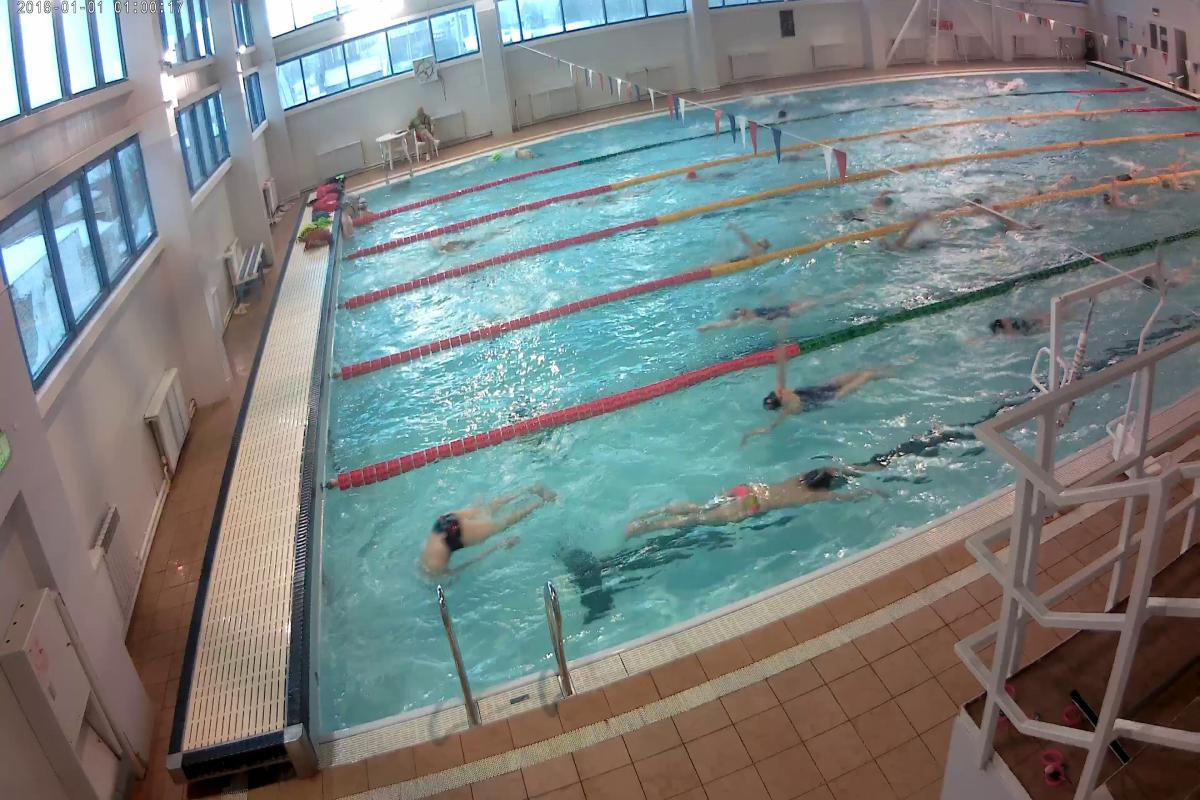swimmer: (643, 461, 862, 536), (404, 485, 552, 586), (751, 361, 880, 432), (698, 298, 841, 328), (984, 302, 1054, 344), (984, 199, 1058, 238), (714, 226, 781, 262), (829, 188, 904, 220), (1092, 174, 1144, 216), (878, 232, 952, 256)
